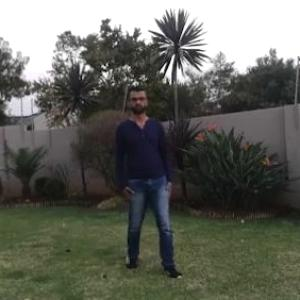follow: (118, 87, 166, 249)
